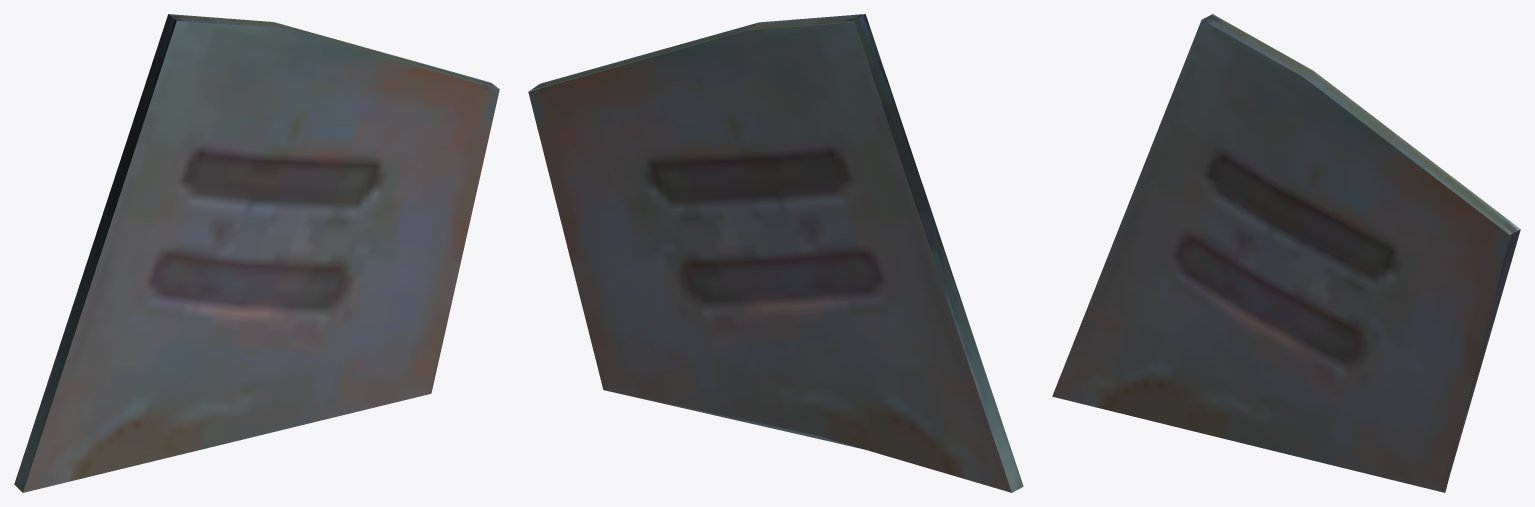
File: all_item_und_panel_07.glb
3 views of the same model, side by side, from view 1: azimuth 30°, elevation 25°; view 2: azimuth 150°, elevation 25°; view 3: azimuth 330°, elevation 25° (orthographic). The views are drawn at different scales.
Parts seen in each view (by area): view 1: all_item_und_panel_07; view 2: all_item_und_panel_07; view 3: all_item_und_panel_07.
Boxes of the visible parts, x1,y1,x2,y2 form: all_item_und_panel_07: [14, 14, 499, 492]; all_item_und_panel_07: [528, 14, 1023, 492]; all_item_und_panel_07: [1052, 14, 1520, 492].
Bounding box in the file's own units: 0.1762 × 0.1527 × 0.00807.
1 material, 1 textured.
